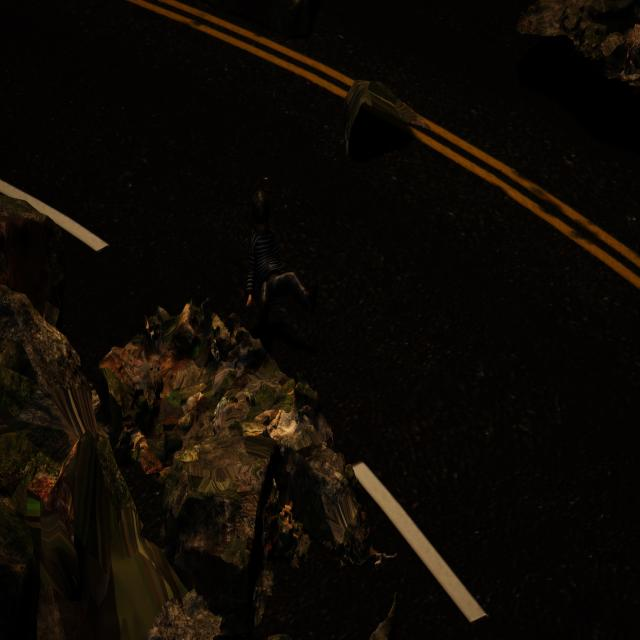Human: (240, 177, 321, 326)
